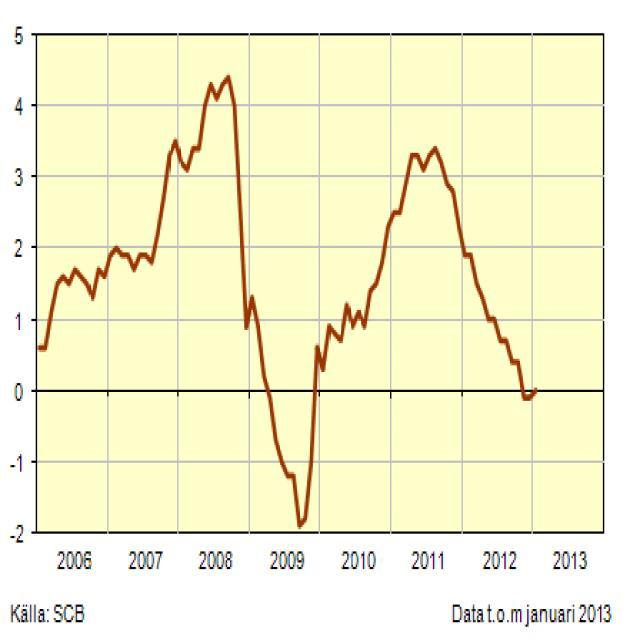axis: (24, 19, 45, 544), (28, 525, 613, 538)
line: (36, 69, 539, 532)
